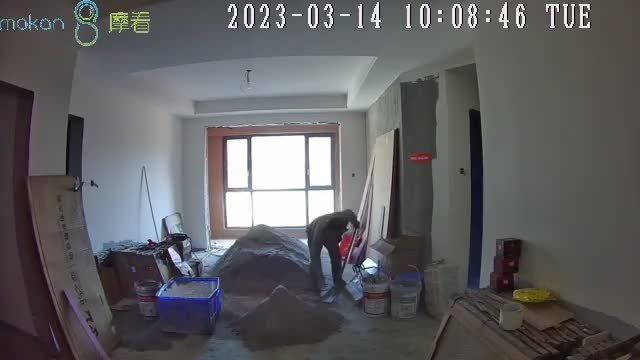people: (307, 209, 360, 288)
window: (222, 134, 337, 231)
